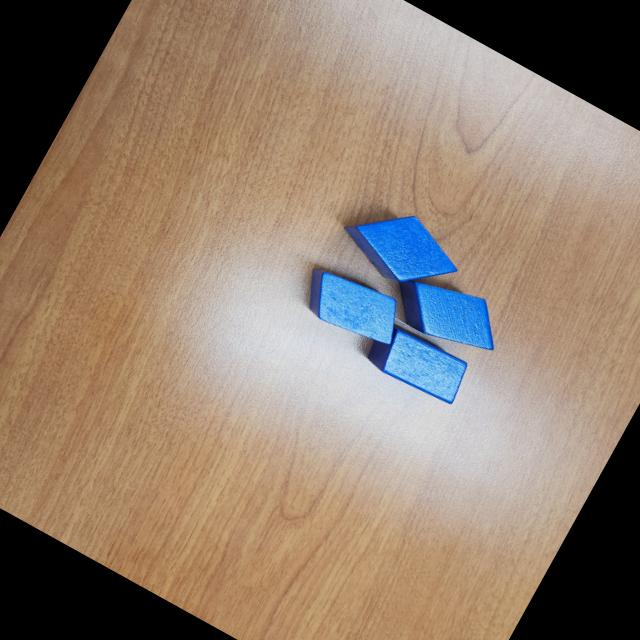blue: (332, 190, 471, 308), (383, 260, 514, 368), (292, 257, 412, 356), (362, 318, 476, 410)
